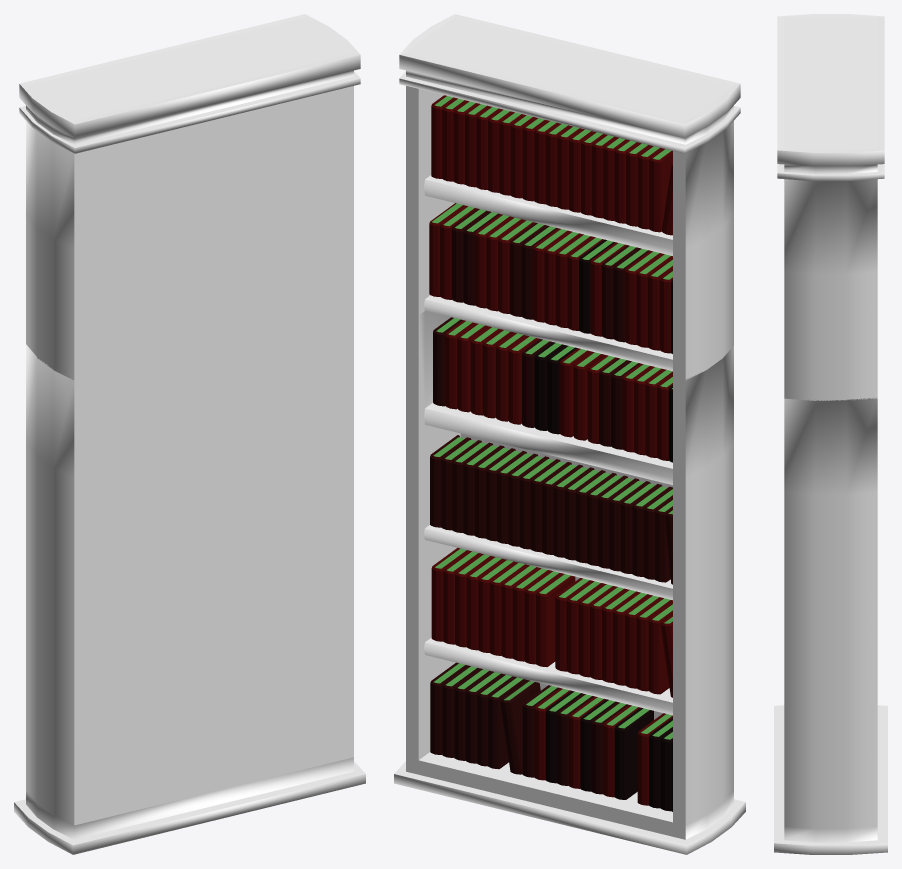
The model's file is Tall2.fbx.
3 renders of one model, left to right at view 1: azimuth 30°, elevation 25°; view 2: azimuth 150°, elevation 25°; view 3: azimuth 270°, elevation 25°, orthographic. The views are drawn at different scales.
Parts seen in each view (by area): view 1: Book Shelf.001; view 2: Book Shelf.001; view 3: Book Shelf.001.
Part boxes in pixels (left/top/right/bottom): Book Shelf.001: left=14, top=14, right=365, bottom=854; Book Shelf.001: left=394, top=14, right=745, bottom=854; Book Shelf.001: left=774, top=14, right=887, bottom=854.
Bounding box in the file's own units: 1127 × 2586 × 381.
